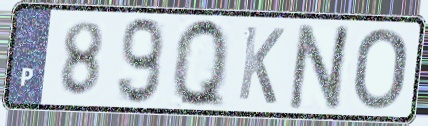8: (58, 19, 107, 98)
9: (116, 15, 166, 107)
K: (235, 22, 288, 107)
N: (285, 22, 357, 113)
O: (351, 26, 411, 113)
Q: (172, 14, 230, 113)
